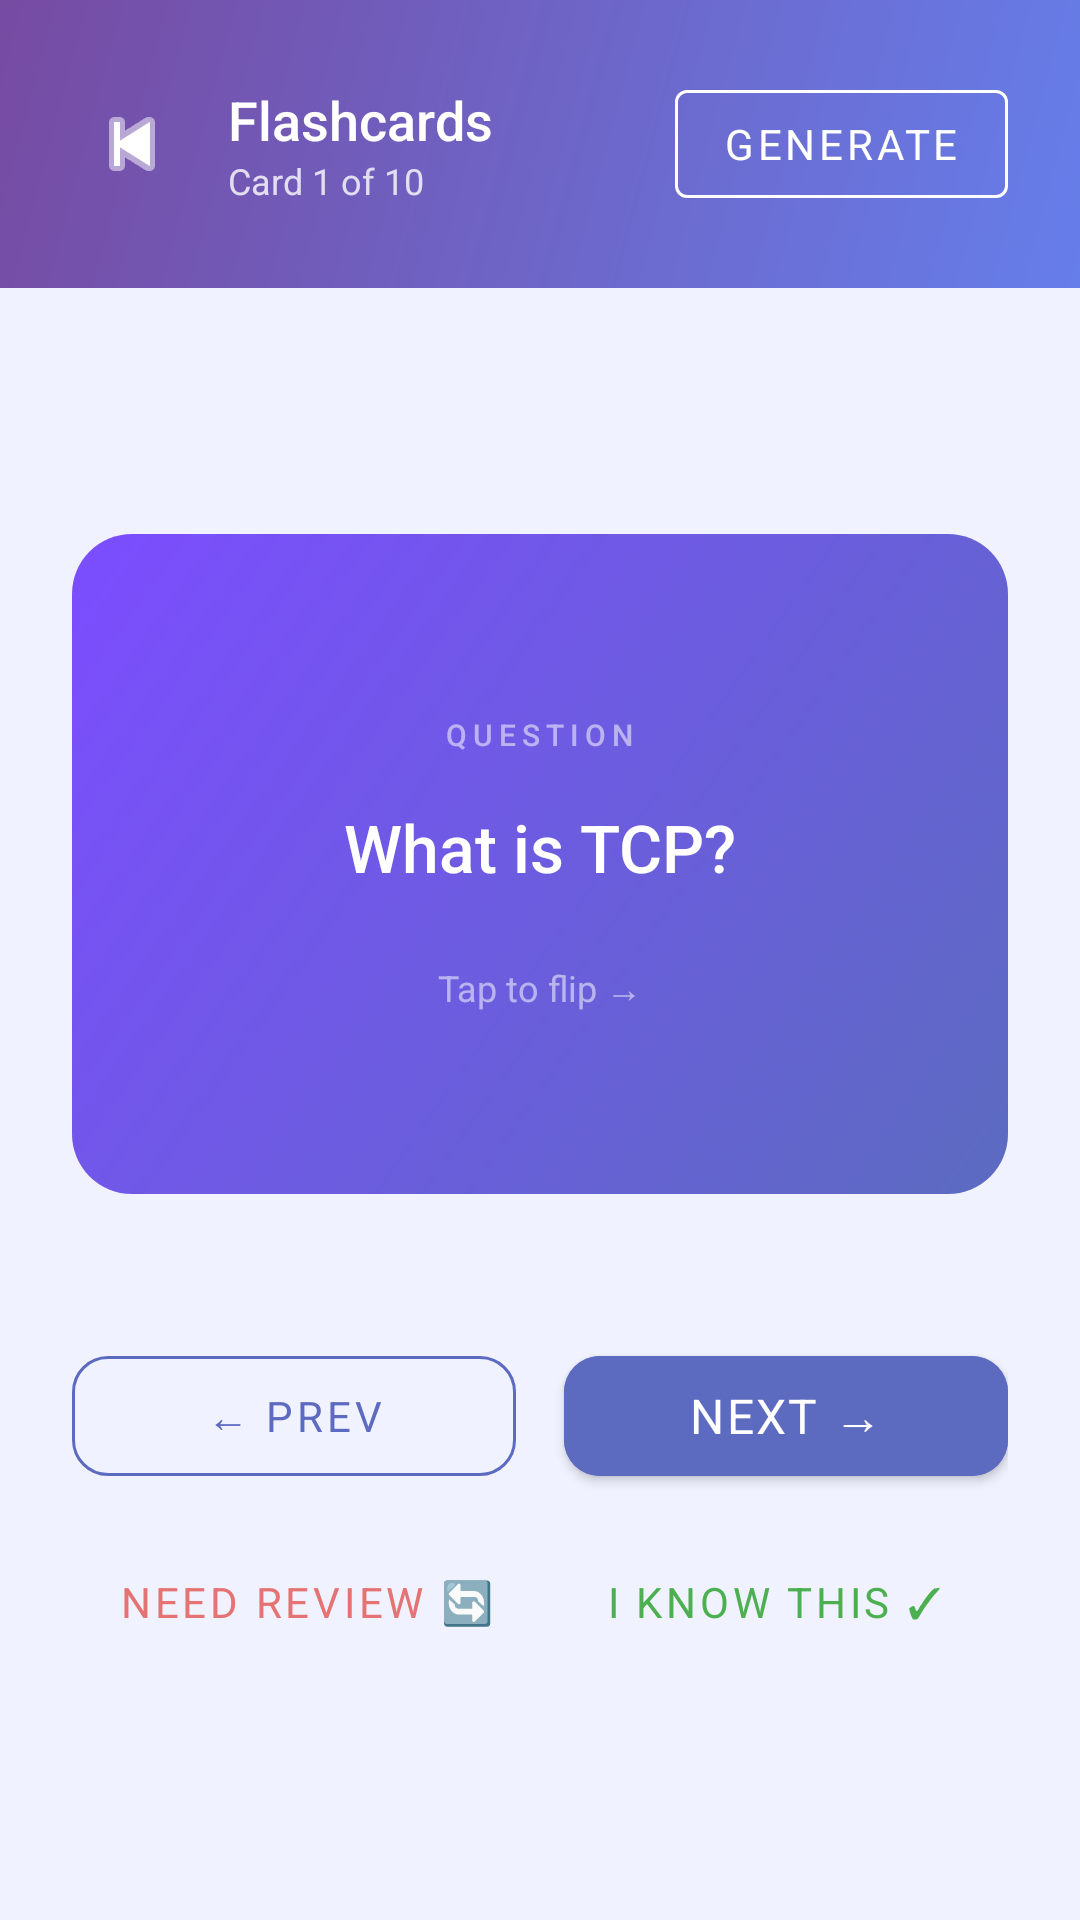

Icons on this 1080w x 1920h Android screen, each with the point to tap as point (x, y):
Back: point (132, 144)
